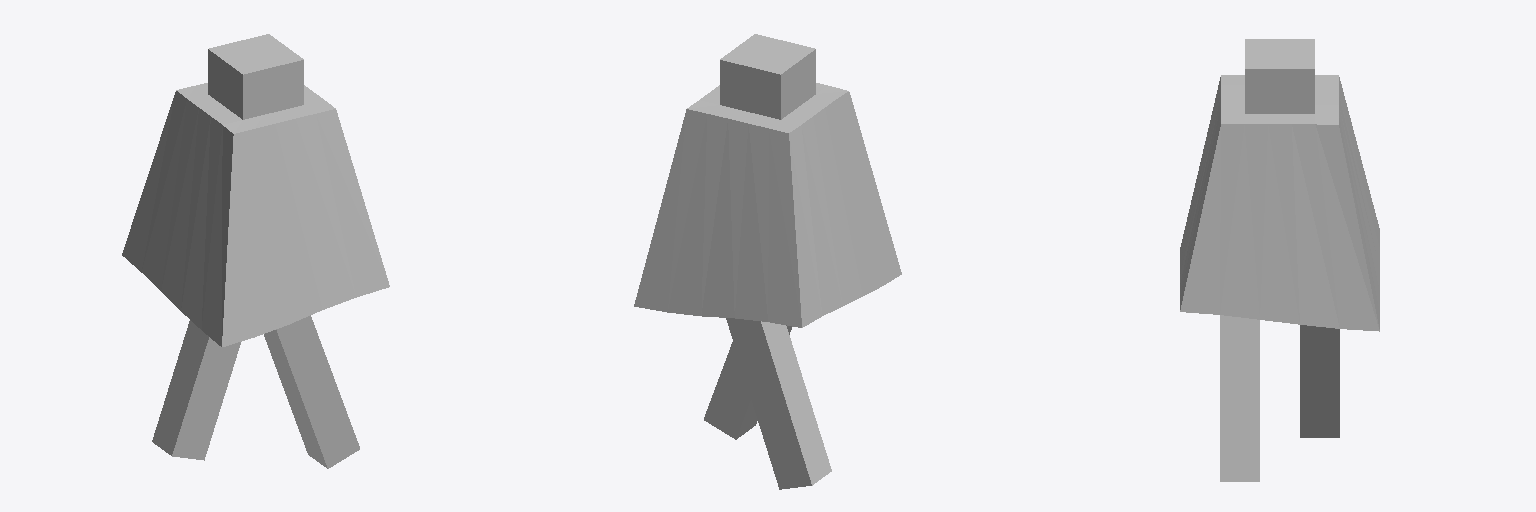
The model's file is essai_000017.obj.
3 views of the same model, side by side, from view 1: azimuth 30°, elevation 25°; view 2: azimuth 150°, elevation 25°; view 3: azimuth 270°, elevation 25° (orthographic).
Parts seen in each view (by area): view 1: Cube; view 2: Cube; view 3: Cube.
Boxes of the visible parts, box(x1,y1,x2,y2) form: Cube: box(122, 34, 389, 468); Cube: box(634, 34, 901, 489); Cube: box(1180, 39, 1379, 481).
Bounding box in the file's own units: 1.96 × 4.45 × 2.